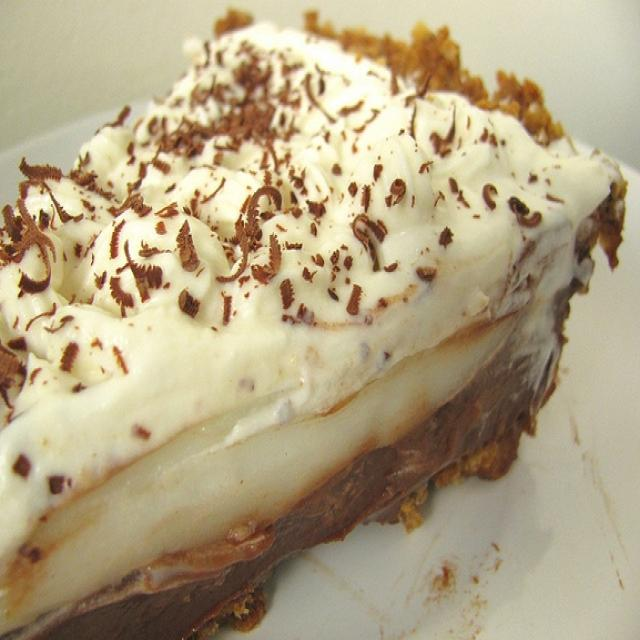蛋糕甜品: (10, 21, 603, 615)
